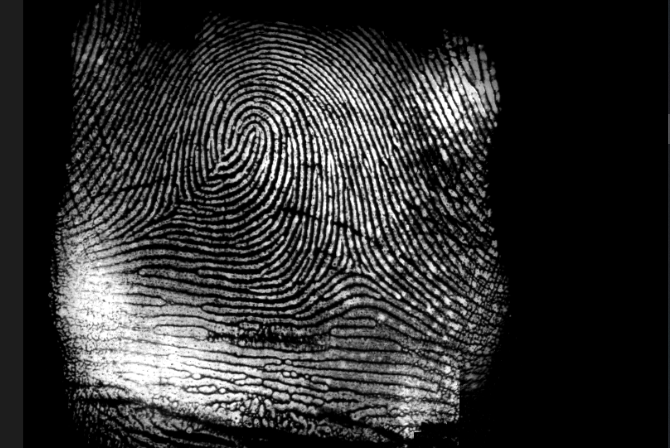deltas: (323, 238, 380, 297), (149, 172, 199, 230)
nucleo: (209, 99, 282, 172)
